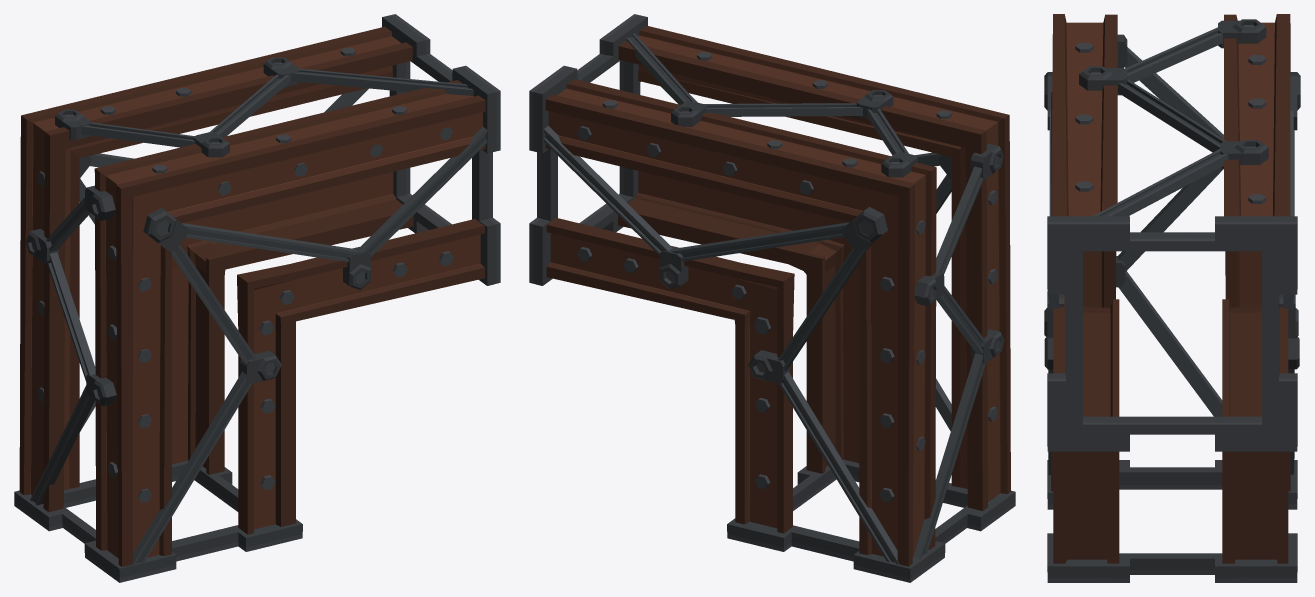
Rendered from SM_Bld_Metal_Pipe_Frame_01.fbx.
3 renders of one model, left to right at view 1: azimuth 30°, elevation 25°; view 2: azimuth 150°, elevation 25°; view 3: azimuth 270°, elevation 25°, orthographic. The views are drawn at different scales.
Parts seen in each view (by area): view 1: SM_Bld_Metal_Pipe_Frame_01; view 2: SM_Bld_Metal_Pipe_Frame_01; view 3: SM_Bld_Metal_Pipe_Frame_01.
Boxes of the visible parts, bbox=[...] form: SM_Bld_Metal_Pipe_Frame_01: bbox=[14, 14, 500, 582]; SM_Bld_Metal_Pipe_Frame_01: bbox=[529, 14, 1015, 582]; SM_Bld_Metal_Pipe_Frame_01: bbox=[1044, 14, 1300, 582].
Size of the model in its own units: 332 by 329 by 162.
